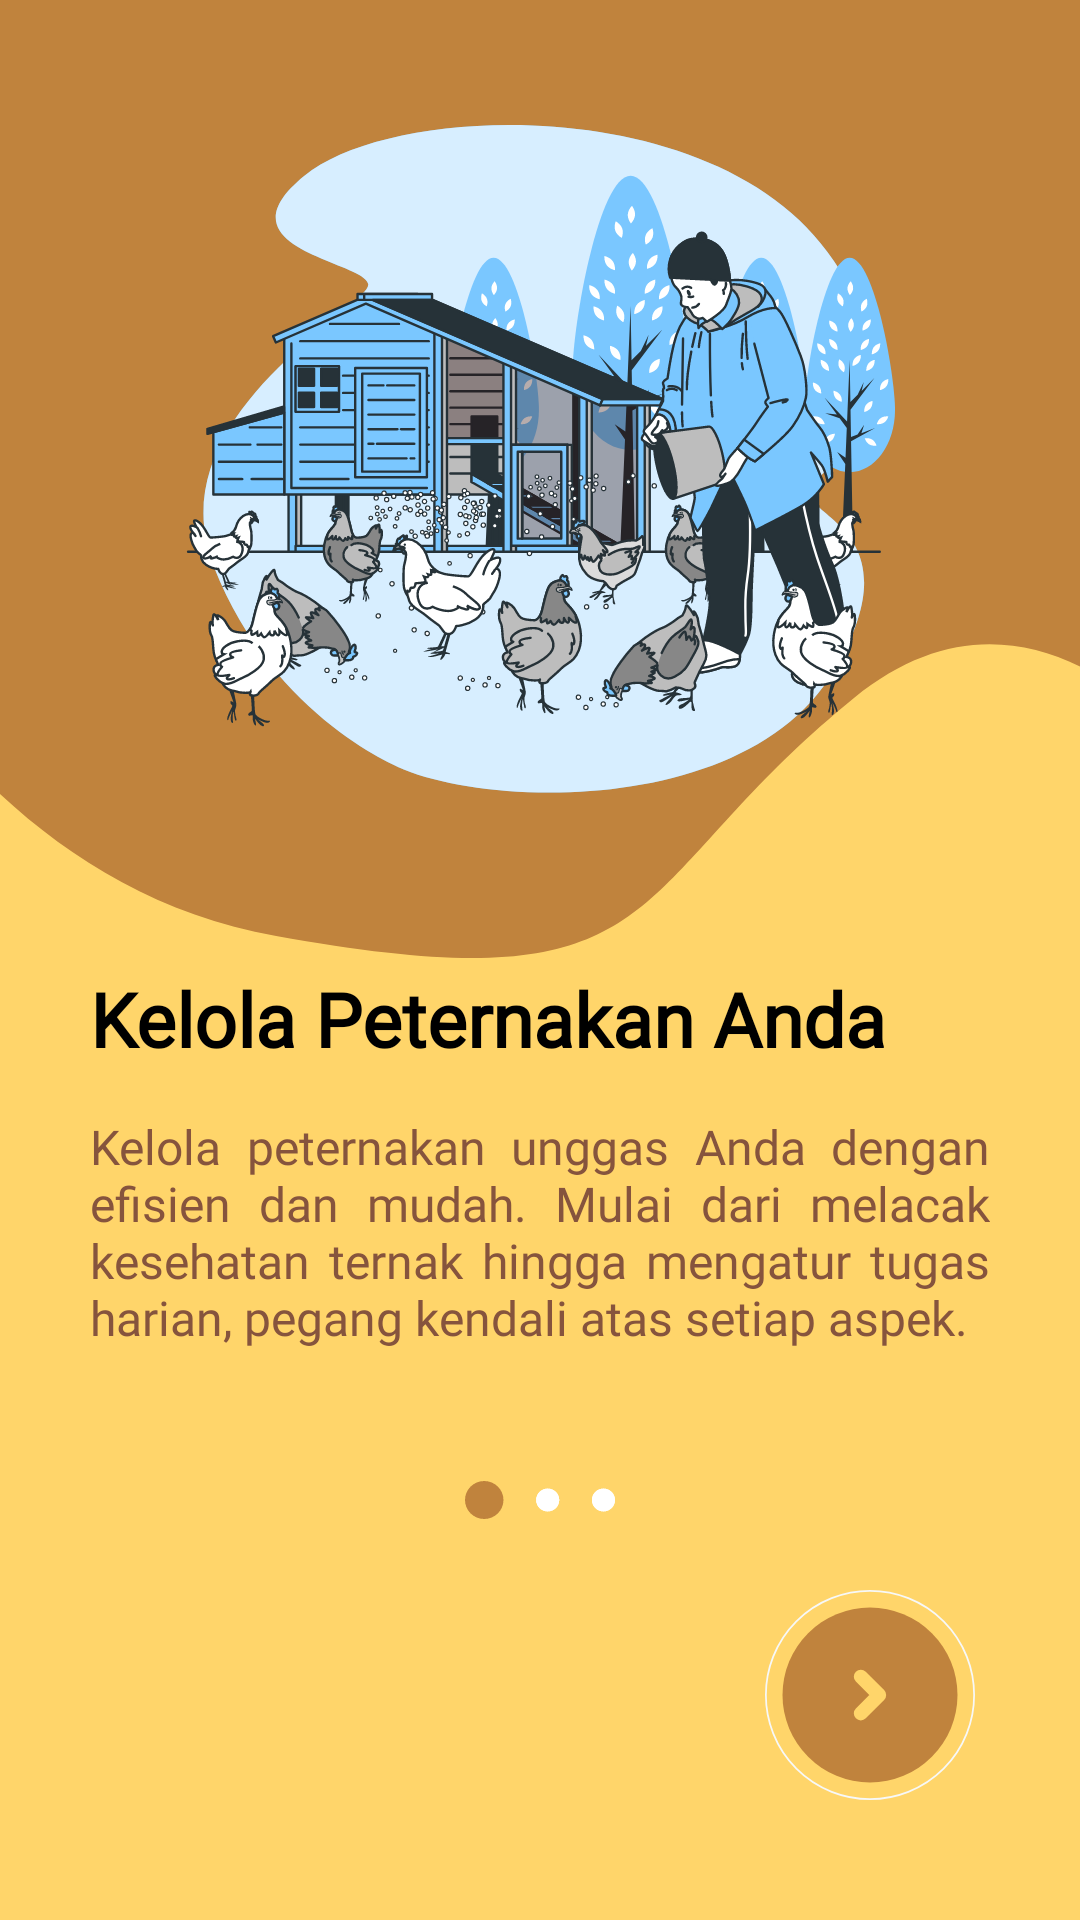

Named icons in this screenshot (1080 × 1920) and their bounding boxes, [x1,y1,x2,y2]:
opening pages: [465,1481,615,1519]
